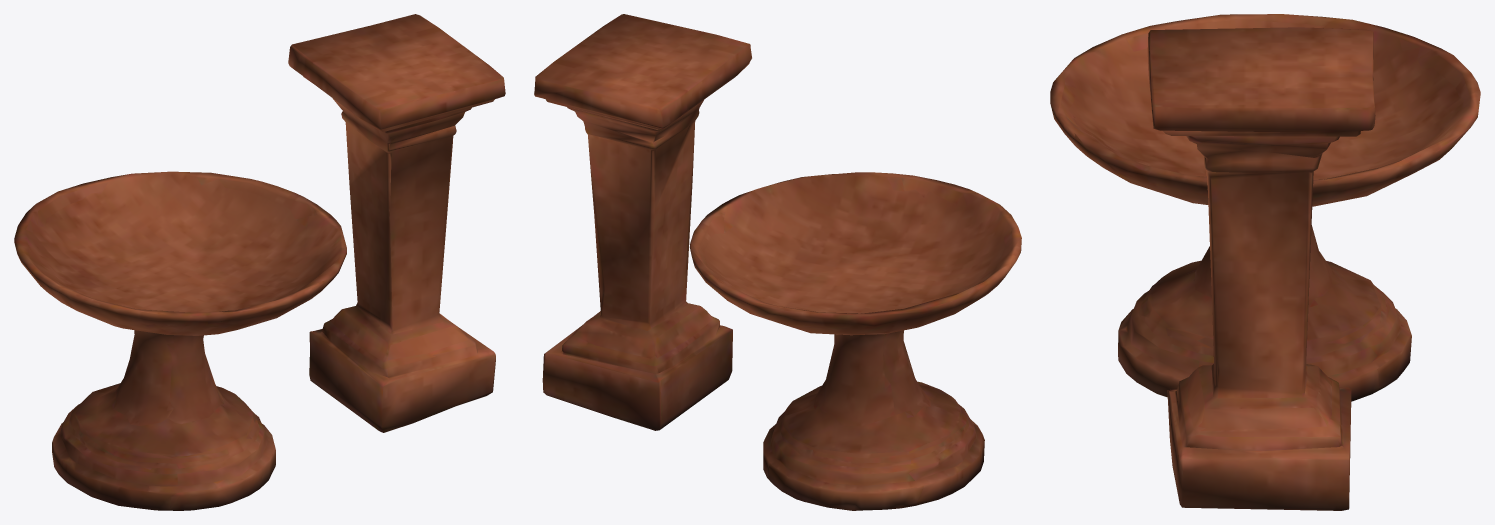
The model's file is old-terracotta-birdbath-v001.glb.
3 views of the same model, side by side, from view 1: azimuth 30°, elevation 25°; view 2: azimuth 150°, elevation 25°; view 3: azimuth 270°, elevation 25° (orthographic). The views are drawn at different scales.
Parts seen in each view (by area): view 1: old-terracotta-birdbath; view 2: old-terracotta-birdbath; view 3: old-terracotta-birdbath.
Boxes of the visible parts, box(x1,y1,x2,y2) form: old-terracotta-birdbath: box(14, 14, 505, 510); old-terracotta-birdbath: box(534, 14, 1021, 510); old-terracotta-birdbath: box(1050, 14, 1480, 510).
Size of the model in its own units: 0.7616 by 0.5969 by 0.5384.
1 material, 1 textured.
